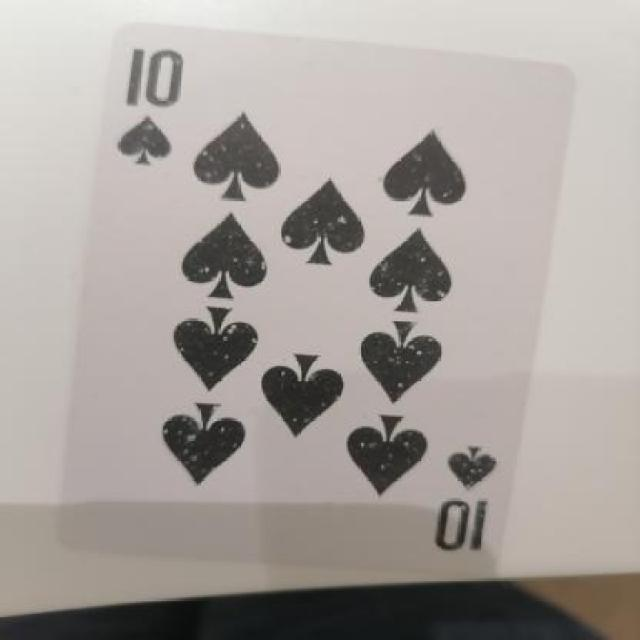10S: (107, 45, 215, 183), (432, 419, 513, 567)
